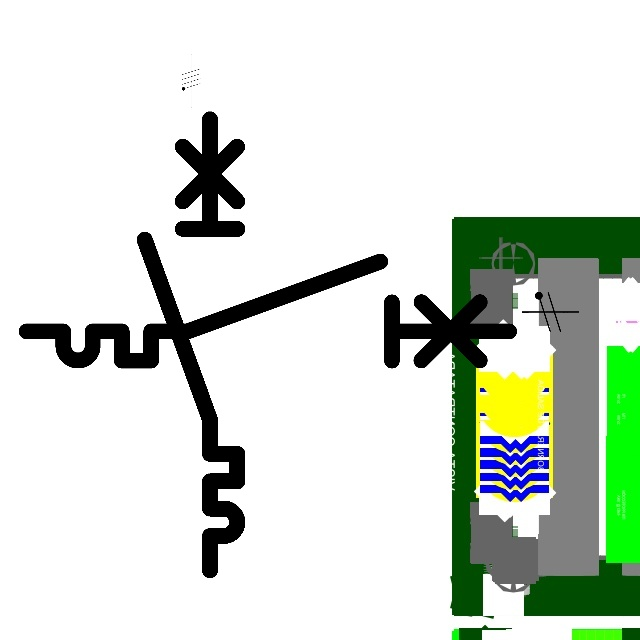interruptor_termomagnetico: (14, 249, 521, 373), (133, 107, 249, 581)
